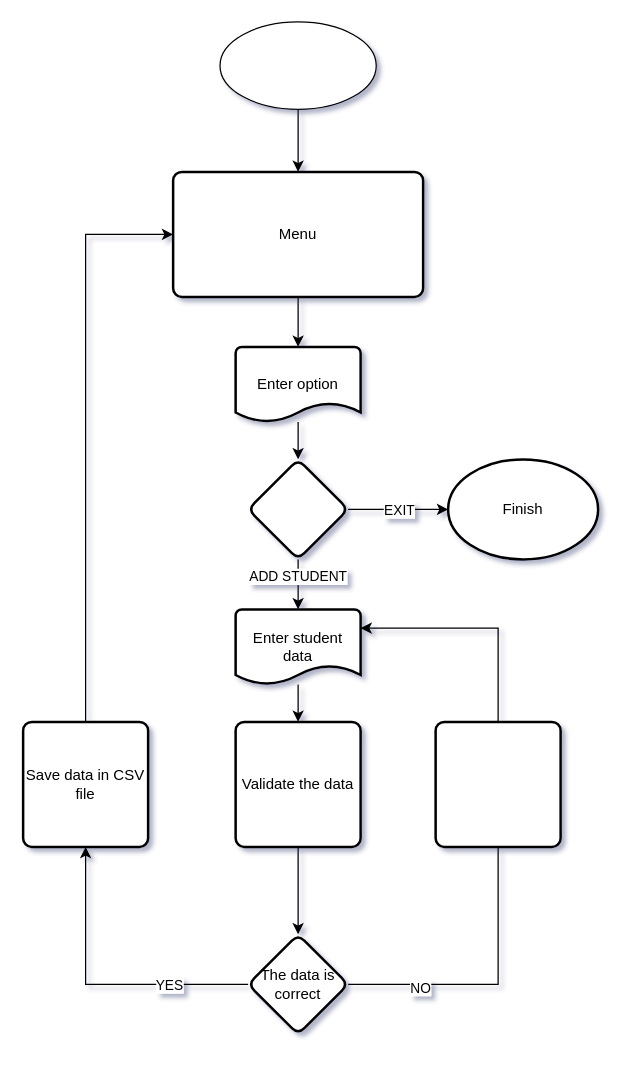
Image size: 628x1065. Some labels were removed from this diagram. The shapes that lost their labels are listed below. From the top down, each one's centre as x and y in pixels, then its label:
the point at 297,65: Start
the point at 297,509: Option
the point at 497,784: Error Message
